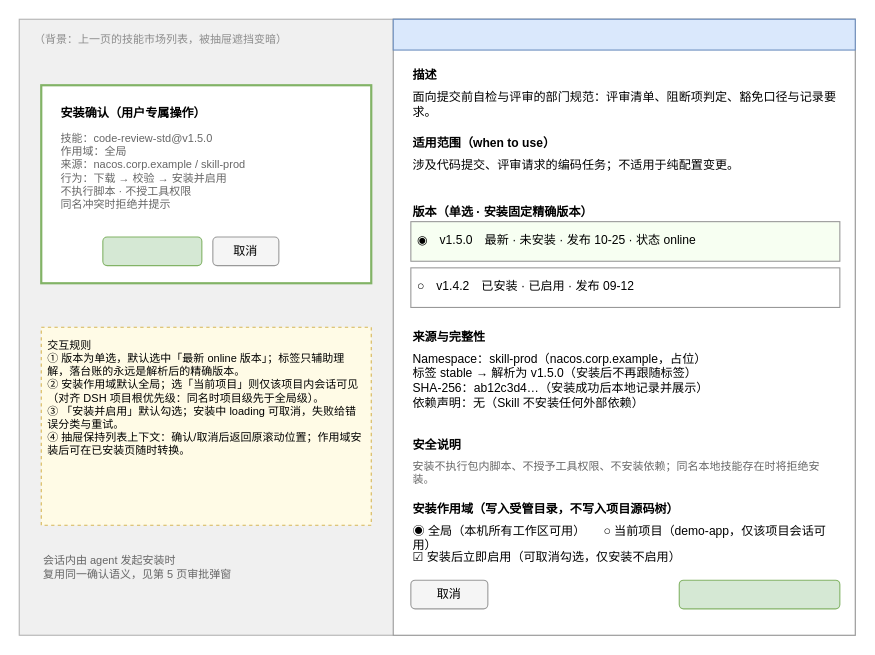
Image size: 875x655. Some labels were removed from this diagram. The centre of each missing label's shape, as x and y in pixels:
安装 v1.5.0 并启用: point (759, 594)
技能详情 code-review-std × 关闭: point (623, 34)
确认安装: point (152, 251)
